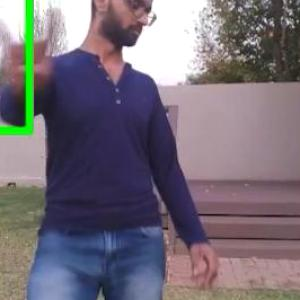takeoff-hand: (0, 6, 72, 102)
